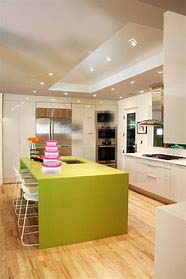copymove: (111, 3, 155, 52)
spliced: (15, 126, 47, 157)
